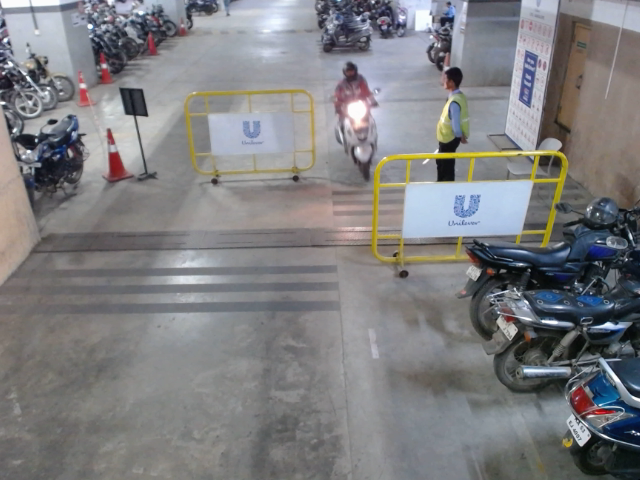with_helmet: (340, 59, 360, 81)
